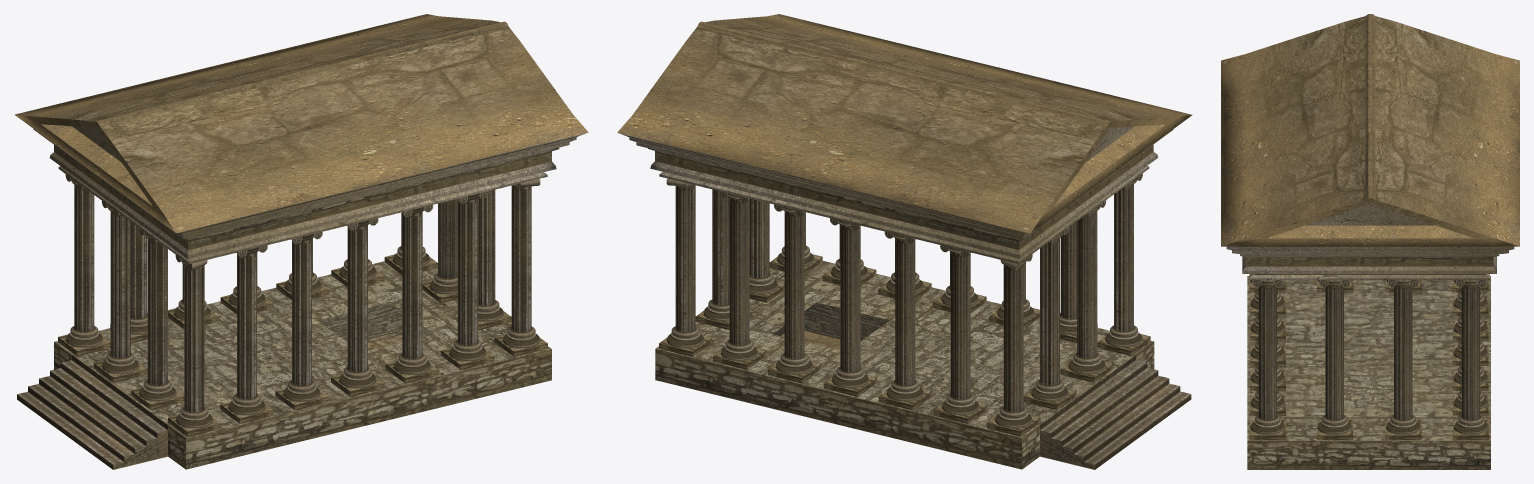
File: New Slime House.FBX
3 views of the same model, side by side, from view 1: azimuth 30°, elevation 25°; view 2: azimuth 150°, elevation 25°; view 3: azimuth 270°, elevation 25° (orthographic). The views are drawn at different scales.
Parts seen in each view (by area): view 1: Roman Thing19, Roman Thing, Box019, Cylinder022, Cylinder001, Cylinder050, Cylinder034, Cylinder046, Cylinder014, Cylinder010, Cylinder006, Cylinder042 (+14 smaller); view 2: Roman Thing19, Roman Thing, Box019, Cylinder018, Cylinder066, Cylinder006, Cylinder070, Cylinder062, Cylinder058, Cylinder054, Cylinder014, Cylinder010 (+14 smaller); view 3: Roman Thing19, Roman Thing, Box019, Cylinder030, Cylinder026, Cylinder022, Cylinder018, Roman Thing12, Roman Thing13, Roman Thing11, Roman Thing14, Box008 (+3 smaller).
Boxes of the visible parts, x1=… form: Roman Thing19: x1=14, y1=14, x2=588, y2=239; Roman Thing: x1=17, y1=261, x2=551, y2=469; Box019: x1=49, y1=145, x2=559, y2=264; Cylinder022: x1=511, y1=185, x2=531, y2=332; Cylinder001: x1=184, y1=265, x2=204, y2=412; Cylinder050: x1=457, y1=198, x2=477, y2=345; Cylinder034: x1=347, y1=225, x2=367, y2=372; Cylinder046: x1=402, y1=212, x2=422, y2=358; Cylinder014: x1=147, y1=238, x2=167, y2=385; Cylinder010: x1=110, y1=211, x2=130, y2=358; Cylinder006: x1=74, y1=184, x2=94, y2=331; Cylinder042: x1=237, y1=252, x2=256, y2=399; Roman Thing19: x1=617, y1=14, x2=1192, y2=239; Roman Thing: x1=655, y1=261, x2=1191, y2=469; Box019: x1=647, y1=144, x2=1158, y2=263; Cylinder018: x1=675, y1=185, x2=695, y2=332; Cylinder066: x1=895, y1=238, x2=915, y2=385; Cylinder006: x1=1003, y1=265, x2=1023, y2=412; Cylinder070: x1=950, y1=252, x2=970, y2=399; Cylinder062: x1=840, y1=225, x2=860, y2=372; Cylinder058: x1=784, y1=211, x2=804, y2=358; Cylinder054: x1=729, y1=198, x2=749, y2=345; Cylinder014: x1=1077, y1=211, x2=1097, y2=358; Cylinder010: x1=1040, y1=238, x2=1059, y2=385; Roman Thing19: x1=1221, y1=14, x2=1519, y2=253; Roman Thing: x1=1247, y1=276, x2=1490, y2=469; Box019: x1=1240, y1=254, x2=1499, y2=280; Cylinder030: x1=1394, y1=285, x2=1412, y2=420; Cylinder026: x1=1325, y1=285, x2=1343, y2=420; Cylinder022: x1=1258, y1=285, x2=1276, y2=420; Cylinder018: x1=1462, y1=285, x2=1480, y2=420; Roman Thing12: x1=1317, y1=414, x2=1351, y2=434; Roman Thing13: x1=1250, y1=414, x2=1284, y2=434; Roman Thing11: x1=1386, y1=414, x2=1420, y2=434; Roman Thing14: x1=1454, y1=414, x2=1488, y2=434; Box008: x1=1385, y1=420, x2=1421, y2=439.
Size of the model in its own units: 149 by 98.31 by 94.25.
